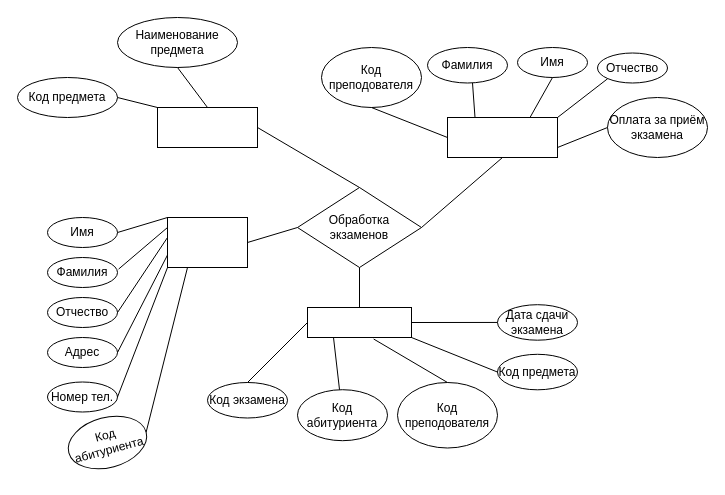
Image size: 725x495. Some labels were removed from this diagram. The box of each missing label's shape, as (x1, y1, x2, y2) in pixels:
Абитуриенты: (166, 216, 248, 268)
Предметы: (156, 106, 258, 148)
Преподователи: (446, 116, 558, 158)
Экзамены: (306, 306, 412, 338)
